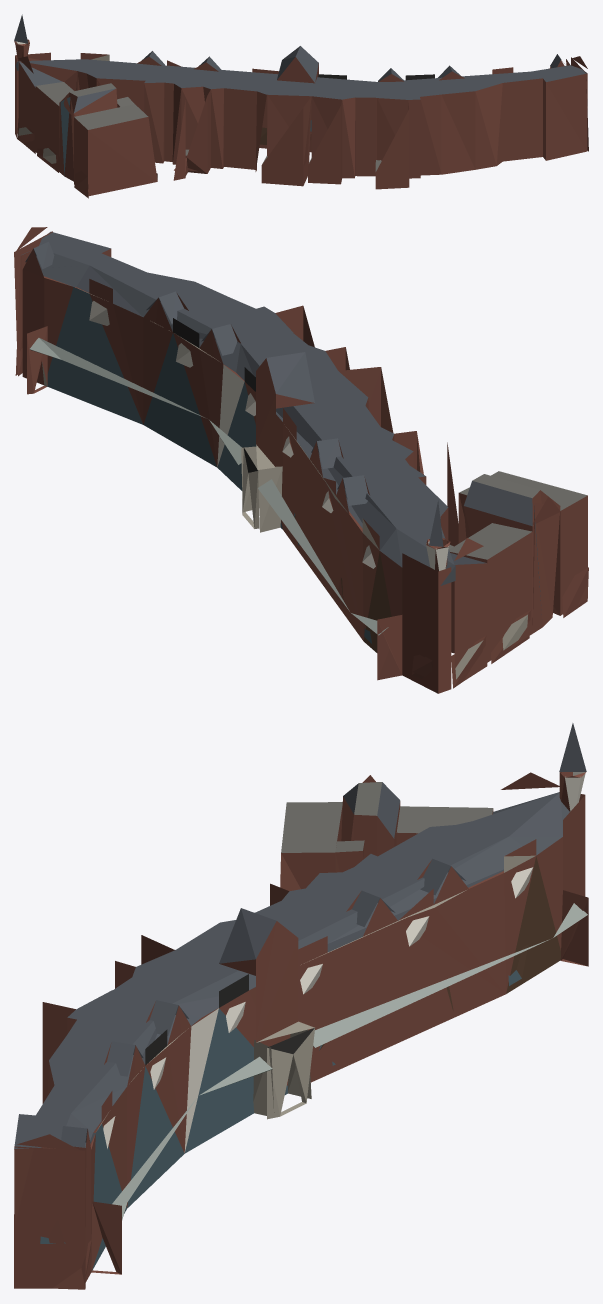
The model's file is raadhuisstraat-galerij.lod2.glb.
The picture shows the model from 3 angles, top to bottom: view 1: azimuth 30°, elevation 25°; view 2: azimuth 150°, elevation 25°; view 3: azimuth 270°, elevation 25°; orthographic projection. The views are drawn at different scales.
Parts seen in each view (by area): view 1: lod2; view 2: lod2; view 3: lod2.
Boxes of the visible parts, bbox=[...] form: lod2: bbox=[14, 14, 588, 198]; lod2: bbox=[14, 227, 588, 693]; lod2: bbox=[14, 723, 588, 1289].
Size of the model in its own units: 102 by 27.71 by 67.36.
